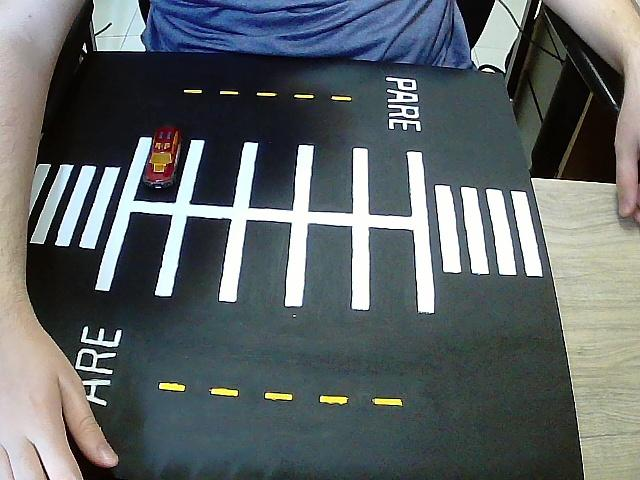Carro: (142, 127, 182, 188)
